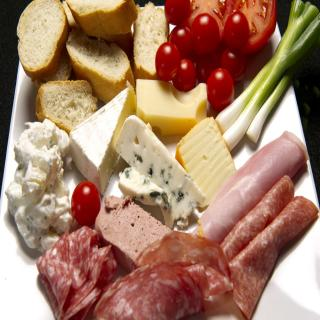tomato: (188, 0, 280, 49), (66, 178, 98, 230), (190, 14, 221, 54), (207, 68, 234, 110), (223, 11, 247, 50), (157, 41, 180, 78), (168, 21, 192, 56), (172, 58, 194, 93), (163, 0, 190, 26), (195, 54, 219, 83), (221, 50, 242, 80)
